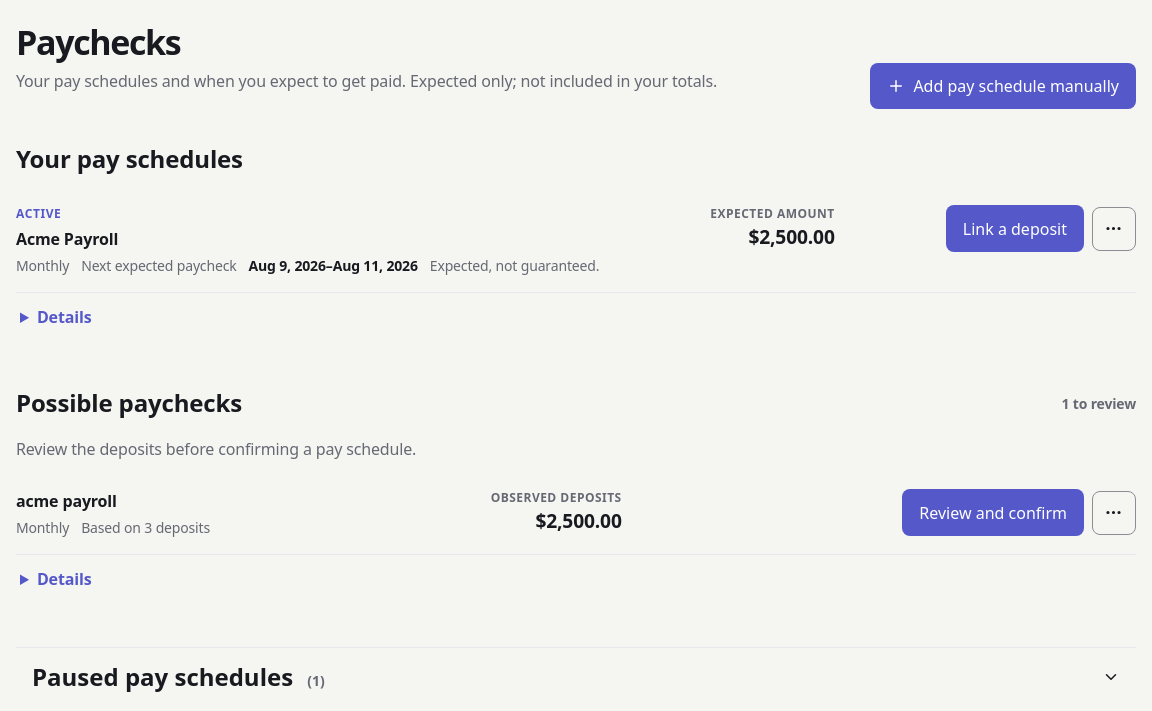
Paychecks page › separates lifecycle/candidate groups, exact evidence and evaluation dates; projects only active profiles
Check: the heading "Your pay schedules" is shown, box x1=16 y1=141 x2=243 y2=177
Check: the element named "Active pay schedules" is shown, box x1=16 y1=193 x2=1136 y2=353
Click the button "Paused pay schedules (1)".
click(163, 676)  # box x1=16 y1=648 x2=1136 y2=705
(page scrolled)
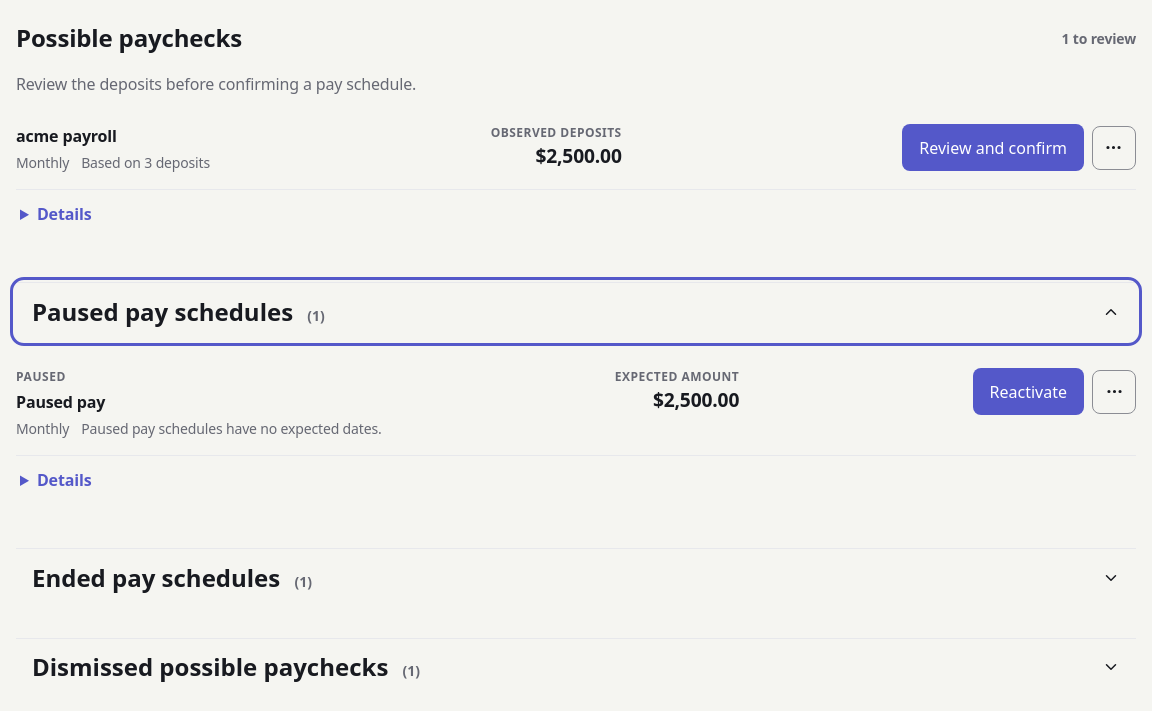
Click the button "Ended pay schedules (1)".
click(156, 577)  # box x1=16 y1=549 x2=1136 y2=606
(page scrolled)
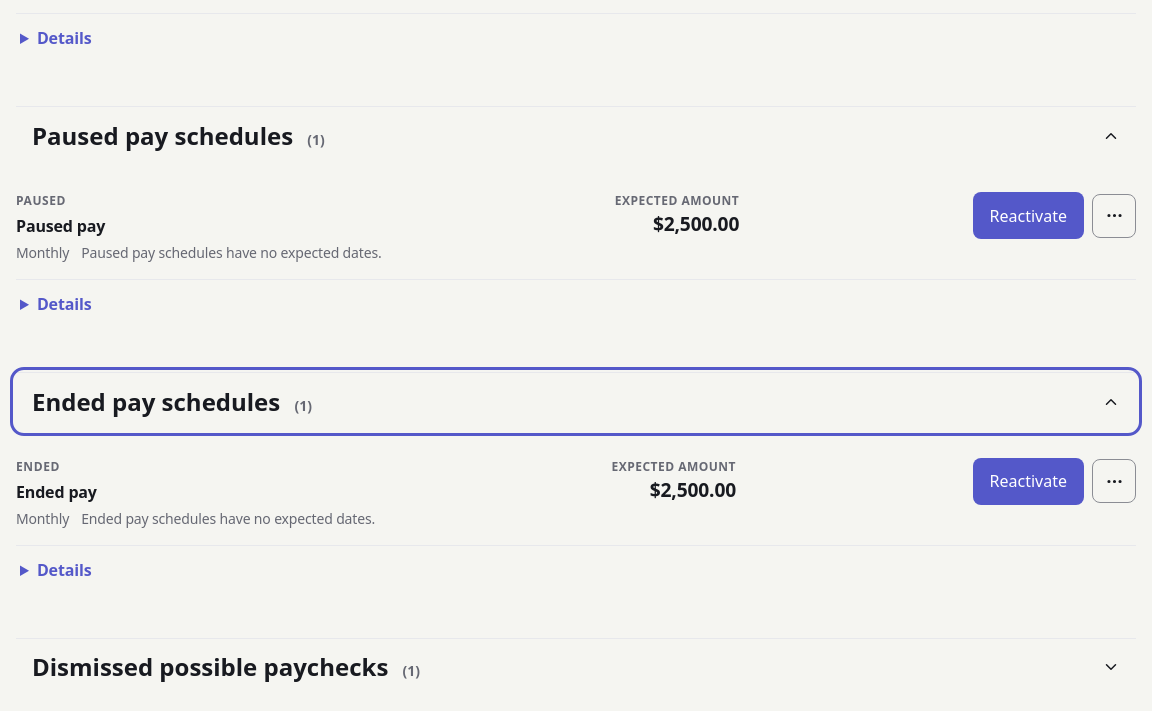
Click the button "Dismissed possible paychecks (1)".
click(210, 667)  # box x1=16 y1=639 x2=1136 y2=696
(page scrolled)
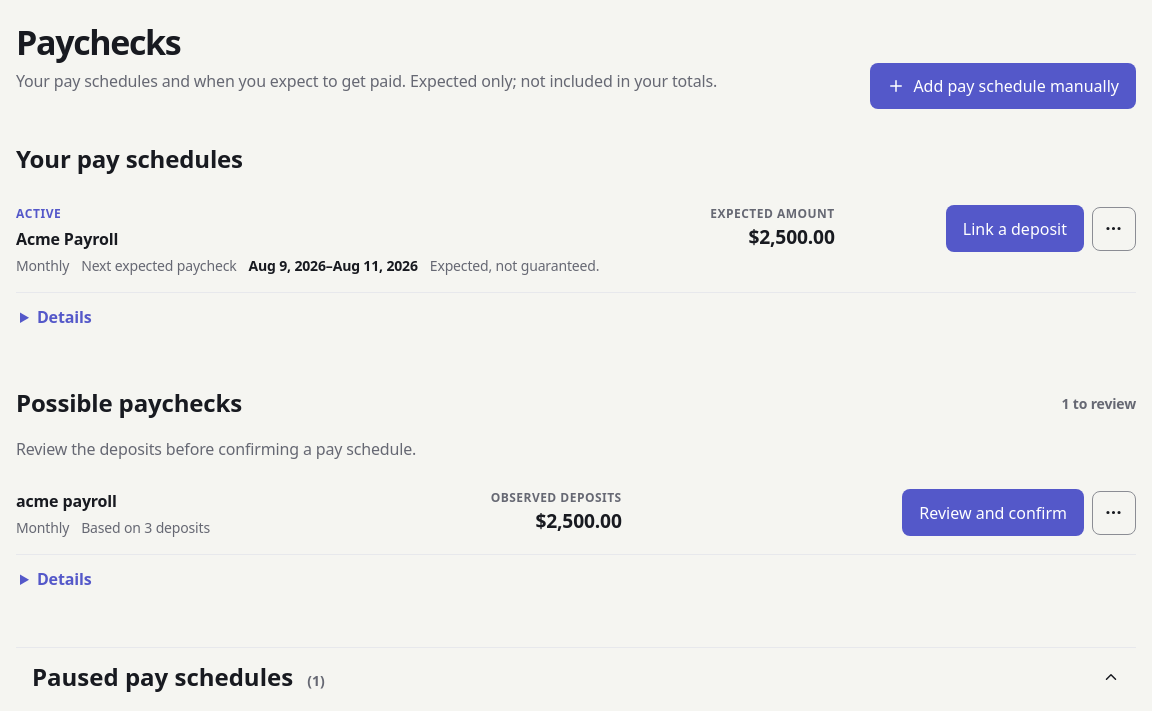
Check: the text "Active" is shown, box x1=16 y1=205 x2=61 y2=222
Check: the text "Expected, not guaranteed." is shown once, box x1=430 y1=255 x2=599 y2=276
Click the heading named "Details for Acme Payroll".
click(64, 317)  # box x1=37 y1=306 x2=91 y2=328
(page scrolled)
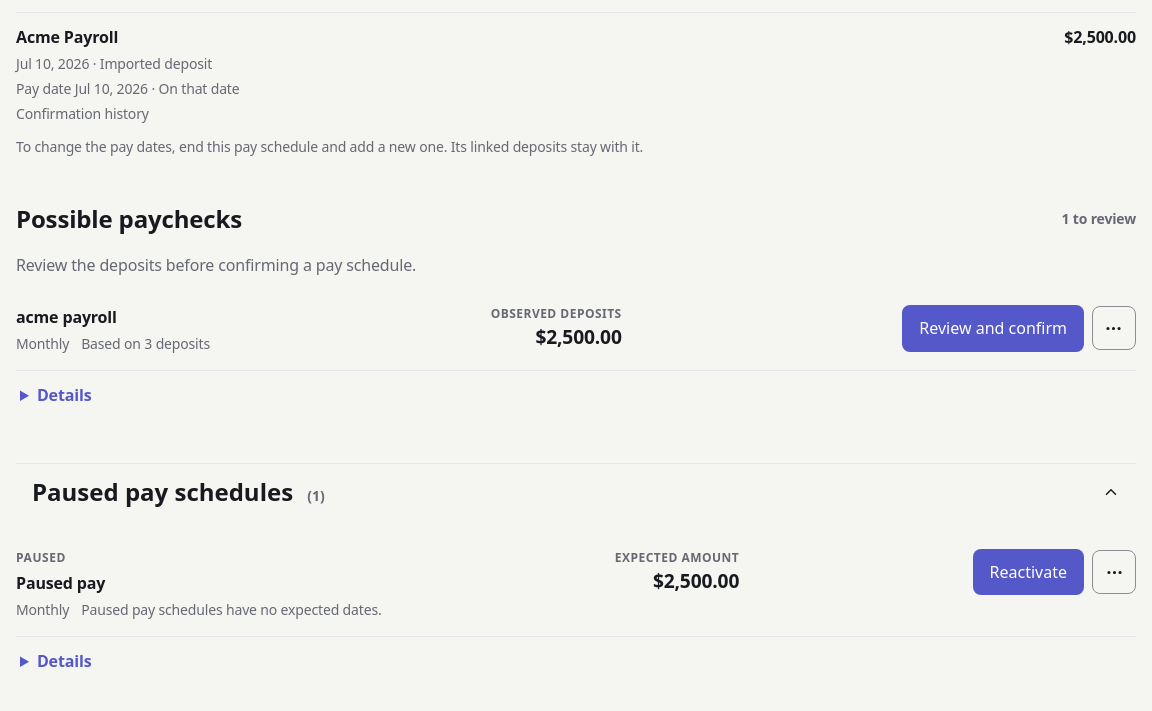
Check: the text "Observed deposits" is shown, box x1=491 y1=305 x2=622 y2=323
Check: the 1st text "Monthly" is shown, box x1=16 y1=333 x2=69 y2=354
Click the heading named "Details for acme payroll".
click(64, 395)  # box x1=37 y1=384 x2=91 y2=406
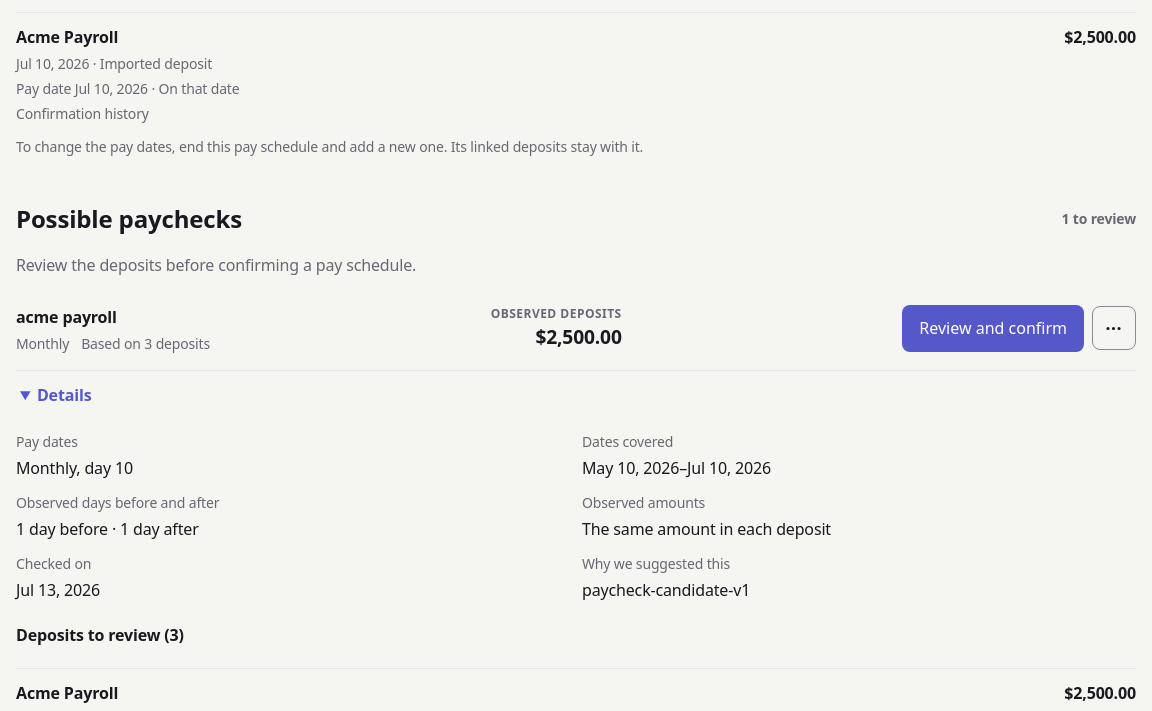
Check: the text "Checked on" shows "Jul 13, 2026", box x1=16 y1=579 x2=100 y2=601
Check: the heading "Deposits to review (3)" is shown, box x1=16 y1=624 x2=184 y2=646
